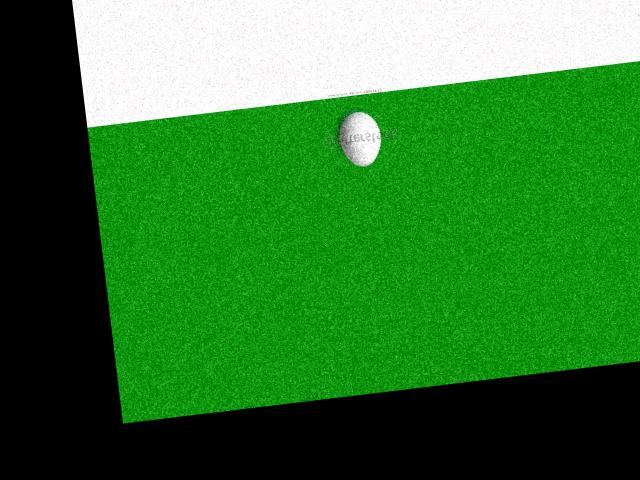egg: (336, 109, 384, 168)
